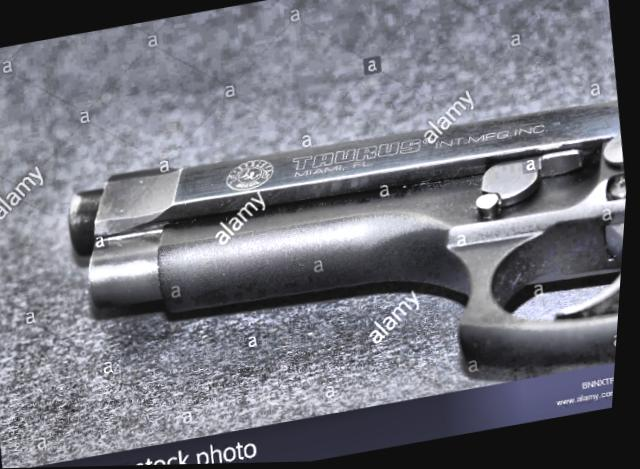pistol: (54, 80, 635, 460)
